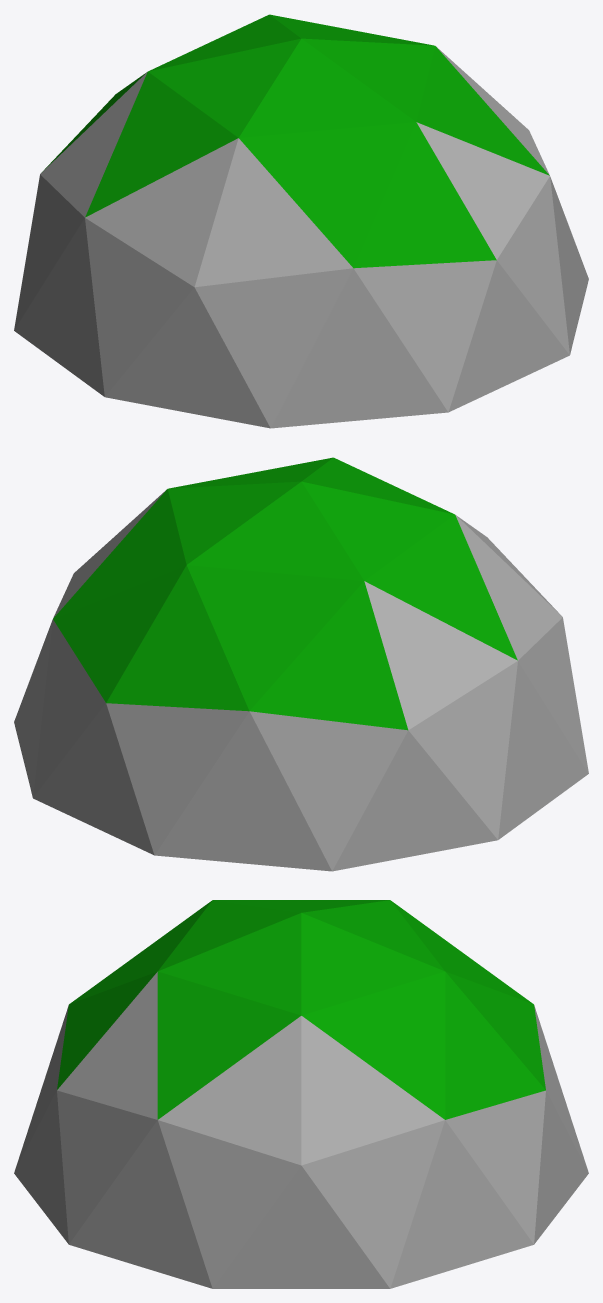
The model's file is Rock1Moss.glb.
3 renders of one model, top to bottom at view 1: azimuth 30°, elevation 25°; view 2: azimuth 150°, elevation 25°; view 3: azimuth 270°, elevation 25°, orthographic. The views are drawn at different scales.
Parts seen in each view (by area): view 1: rock_a_with_moss; view 2: rock_a_with_moss; view 3: rock_a_with_moss.
Part boxes in pixels (x1,y1,x2,y2): rock_a_with_moss: (14, 14, 588, 428); rock_a_with_moss: (14, 457, 588, 871); rock_a_with_moss: (14, 900, 588, 1288).
Size of the model in its own units: 1.9 by 1 by 2.
